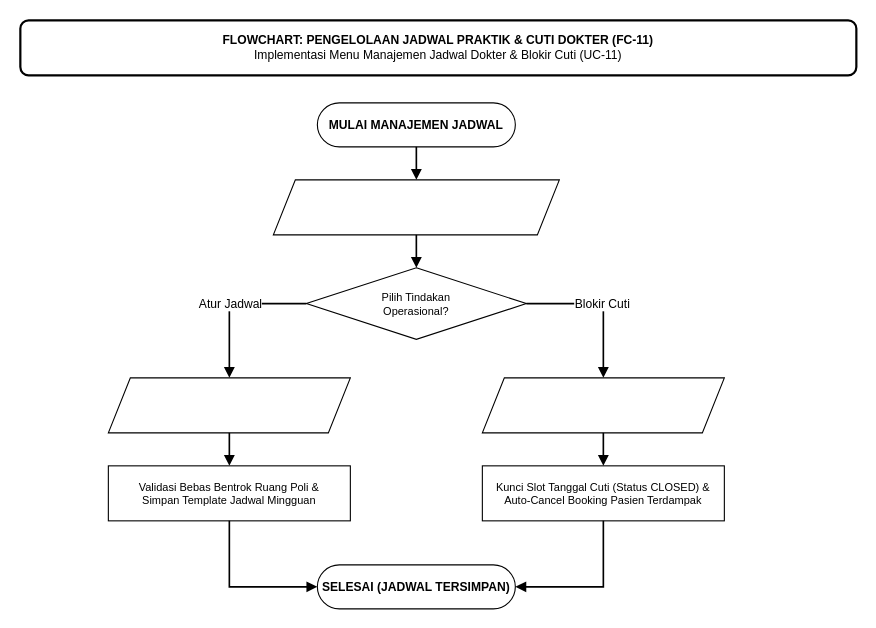
Image size: 876x628. Some labels were removed from this diagram. Here are the shapes that lost their labels. From the top down, the centre of each, then its label:
(415,207): Admin Buka Modul Jadwal & Pilih Dokter
(228,405): Input Hari, Jam Mulai-Selesai & Kuota Maksimal
(602,405): Input Tanggal Cuti Dokter & Alasan Ketidakhadiran
